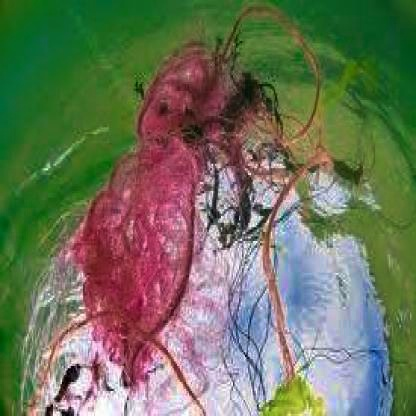net: (65, 2, 318, 416)
